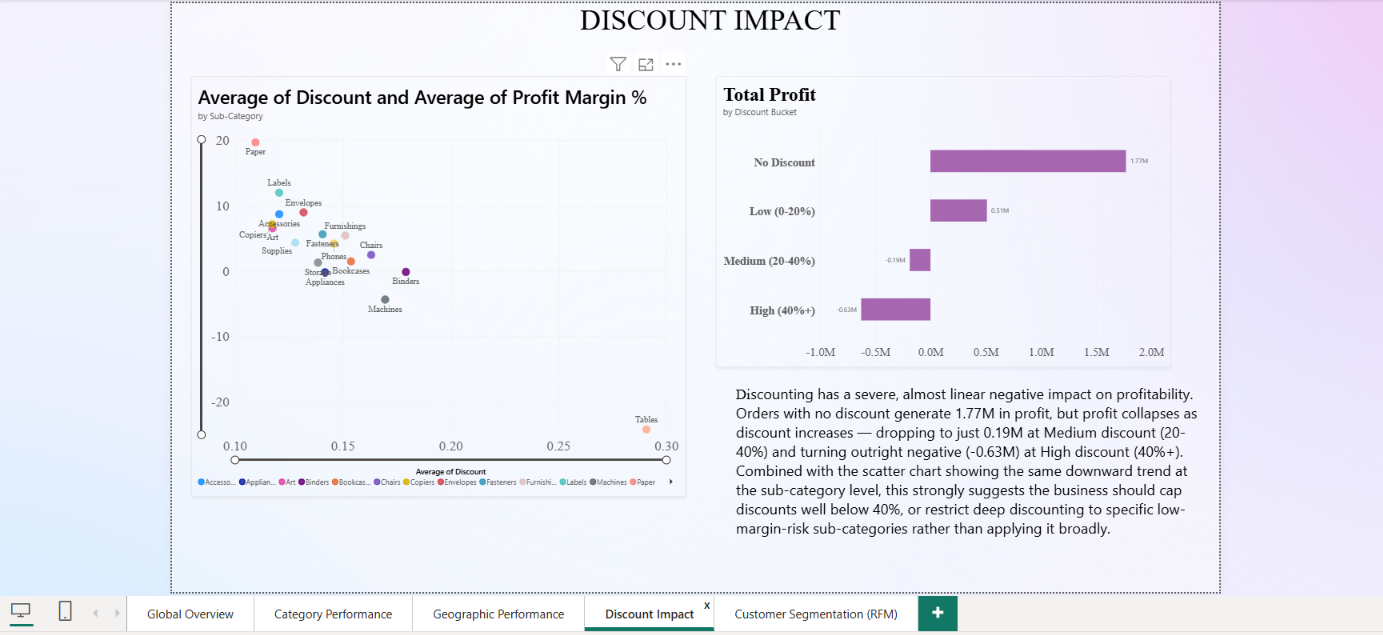

This screenshot's page, from the dashboard's own definition file:
{"tool":"powerbi","page":{"name":"Discount Impact","canvas":[1920,1080],"ordinal":3},"visuals":[{"type":"scatterChart","fields":{"Series":["cleaned_global_superstore.Sub-Category"],"X":["Avg(cleaned_global_superstore.Discount)"],"Y":["cleaned_global_superstore.Profit Margin %"]},"box":[34.9,133.9,908.4,771.5],"z":0},{"type":"clusteredBarChart","fields":{"Category":["cleaned_global_superstore.Discount Bucket"],"Y":["cleaned_global_superstore.Total Profit"]},"box":[997.8,133.9,834.6,533.8],"z":1000},{"type":"textbox","box":[1034.9,696.8,862.7,329.7],"z":1001},{"type":"textbox","box":[748.7,0,931.2,134.8],"z":1002}]}

Visuals, with their boxes on the page's 1920x1080 design canvas (x1, y1, x2, y2). These are canvas units, not pixel positions in the 1383x635 screenshot, which may show the page scaled, cropped or inside an application window:
scatterChart - cleaned_global_superstore.Sub-Category x Avg(cleaned_global_superstore.Discount): box=[35, 134, 943, 905]
clusteredBarChart - cleaned_global_superstore.Discount Bucket x cleaned_global_superstore.Total Profit: box=[998, 134, 1832, 668]
textbox: box=[1035, 697, 1898, 1026]
textbox: box=[749, 0, 1680, 135]
